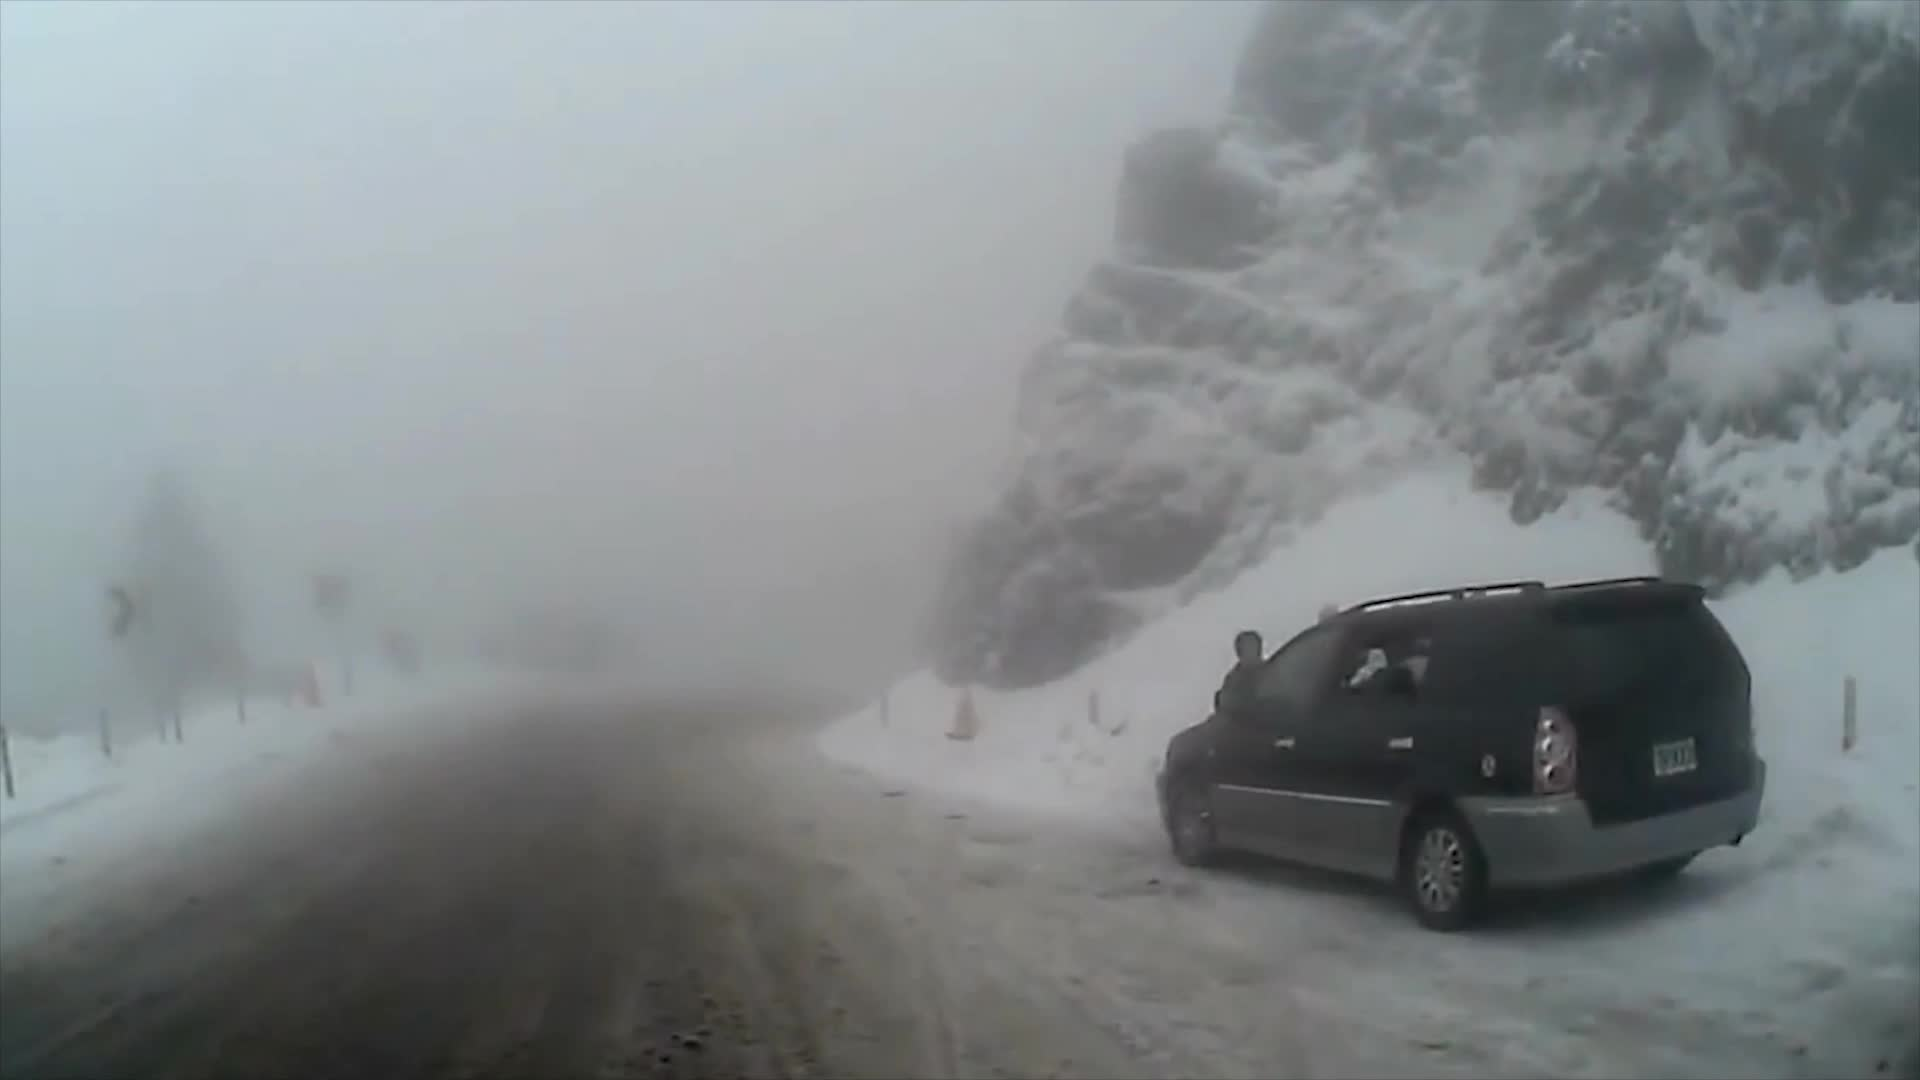pedestrian: (1212, 630, 1279, 822)
vehicle: (1151, 574, 1755, 934)
